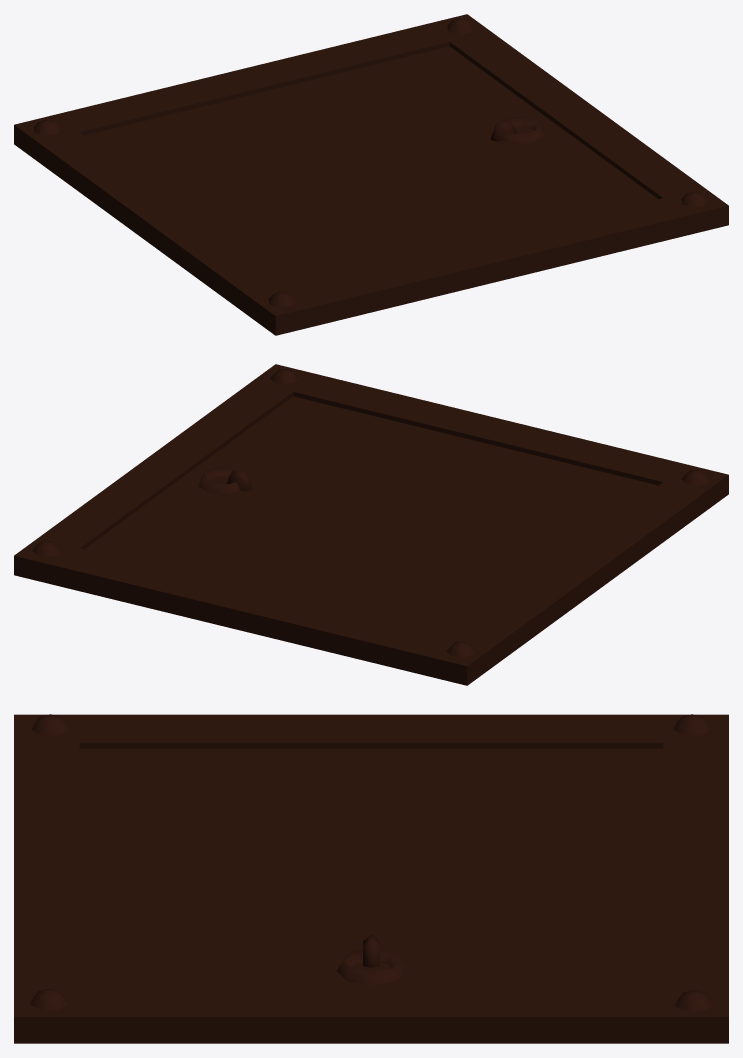
The model's file is trapdoor.glb.
3 renders of one model, top to bottom at view 1: azimuth 30°, elevation 25°; view 2: azimuth 150°, elevation 25°; view 3: azimuth 270°, elevation 25°, orthographic. The views are drawn at different scales.
Visible parts, largest first — view 1: Cube; view 2: Cube; view 3: Cube.
Boxes of the visible parts, box(x1,y1,x2,y2) form: Cube: box(14, 14, 728, 335); Cube: box(14, 364, 728, 685); Cube: box(14, 714, 728, 1043).
Size of the model in its own units: 2 by 0.1299 by 2.
